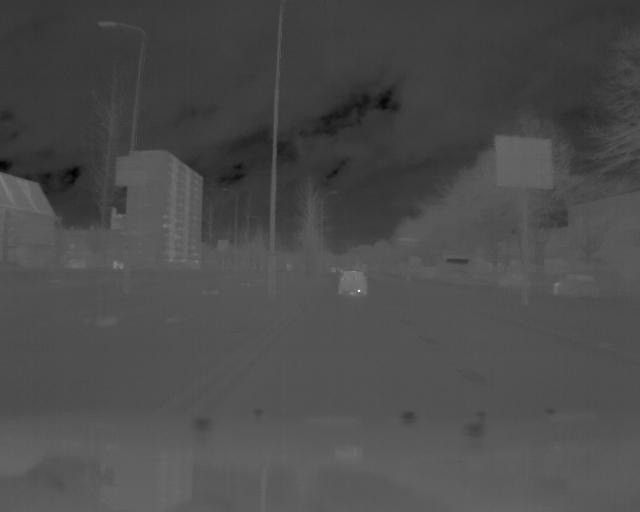car: (552, 272, 602, 302), (336, 268, 369, 299)
